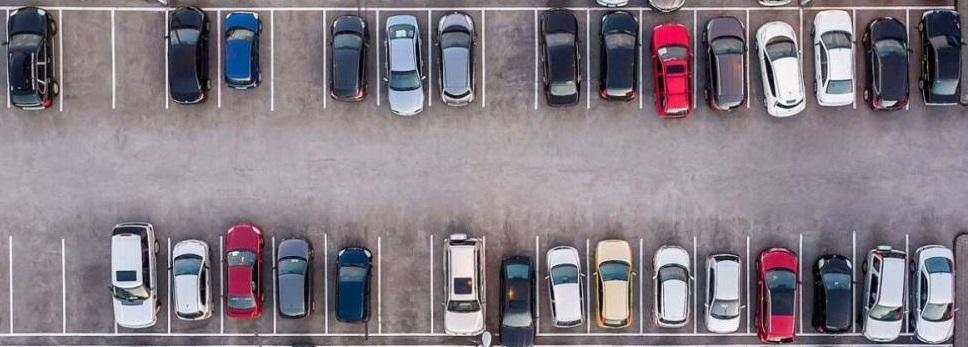occupied: (851, 233, 909, 336), (219, 9, 273, 110), (8, 8, 61, 110), (640, 9, 695, 107), (854, 8, 907, 109), (801, 233, 854, 334), (326, 235, 379, 335), (748, 9, 802, 107), (167, 9, 220, 108), (536, 9, 589, 108), (801, 8, 854, 107), (274, 236, 327, 335), (115, 240, 170, 335), (325, 9, 378, 107), (588, 9, 641, 107), (695, 9, 748, 107), (748, 237, 801, 335), (221, 239, 275, 335), (695, 238, 749, 334), (430, 9, 483, 105), (169, 239, 222, 335), (642, 239, 695, 335), (588, 241, 642, 335), (432, 237, 484, 334), (378, 9, 430, 105), (537, 238, 588, 334)
vacant: (112, 9, 167, 108), (61, 8, 114, 110), (272, 9, 325, 109), (484, 9, 536, 109), (11, 238, 64, 335), (379, 237, 432, 334), (63, 240, 116, 335)
